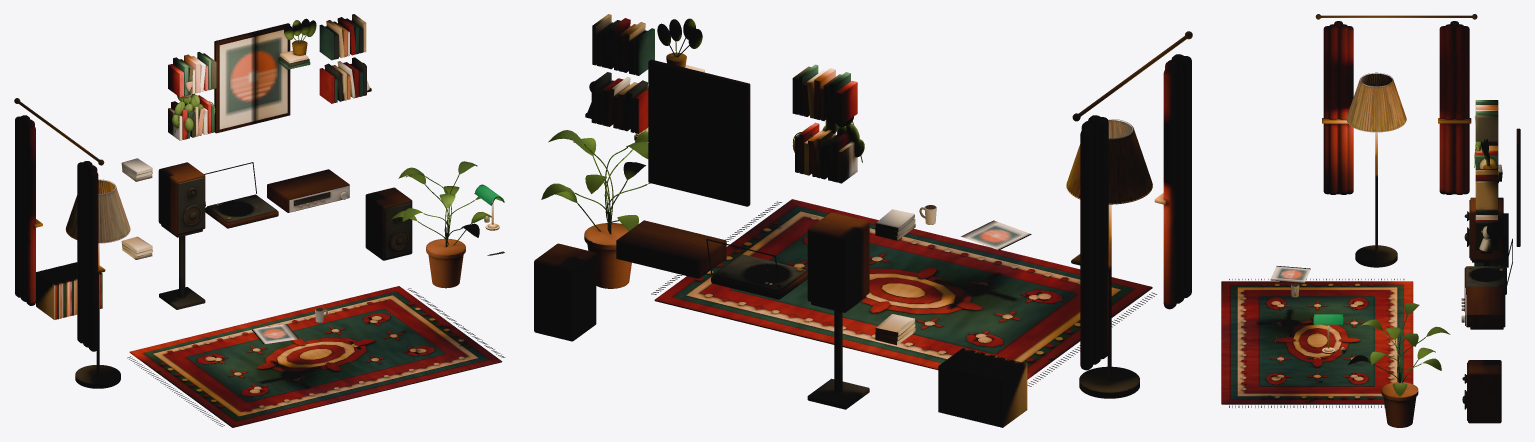
3 views of the same model, side by side, from view 1: azimuth 30°, elevation 25°; view 2: azimuth 150°, elevation 25°; view 3: azimuth 270°, elevation 25° (orthographic). The views are drawn at different scales.
Visible parts, largest first — view 1: objects; view 2: objects; view 3: objects.
Boxes of the visible parts, x1,y1,x2,y2 form: objects: [14, 14, 505, 427]; objects: [534, 14, 1192, 427]; objects: [1221, 14, 1520, 427].
Size of the model in its own units: 4.27 by 2.35 by 2.68.
Materials: 1 (1 with a texture image).
